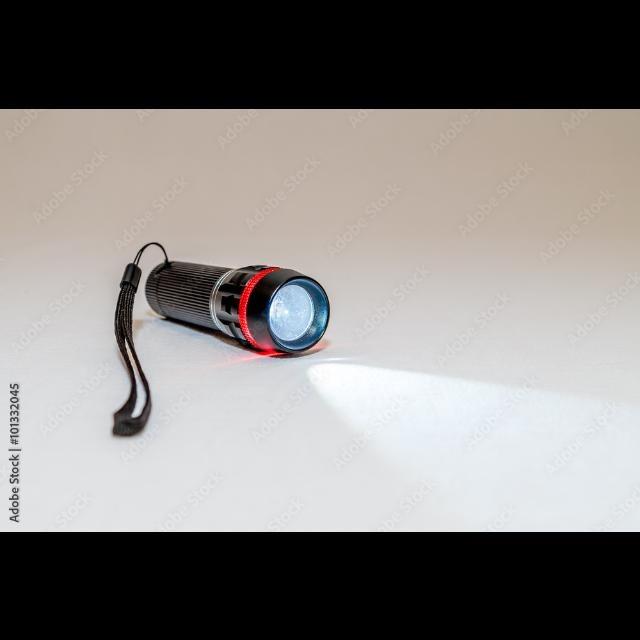Flashlight: (105, 236, 335, 442)
